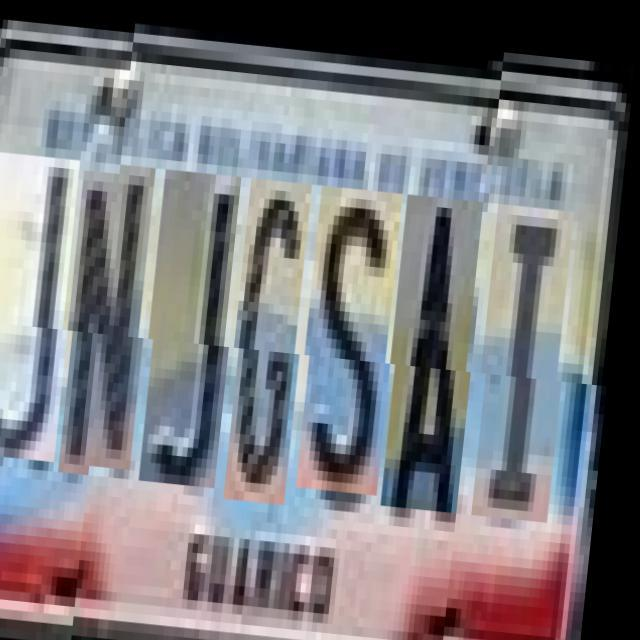A: (391, 185, 492, 502)
G: (234, 172, 320, 498)
I: (481, 202, 582, 520)
J: (149, 166, 250, 483), (0, 143, 89, 451)
N: (69, 159, 164, 466)
S: (306, 178, 411, 486)
